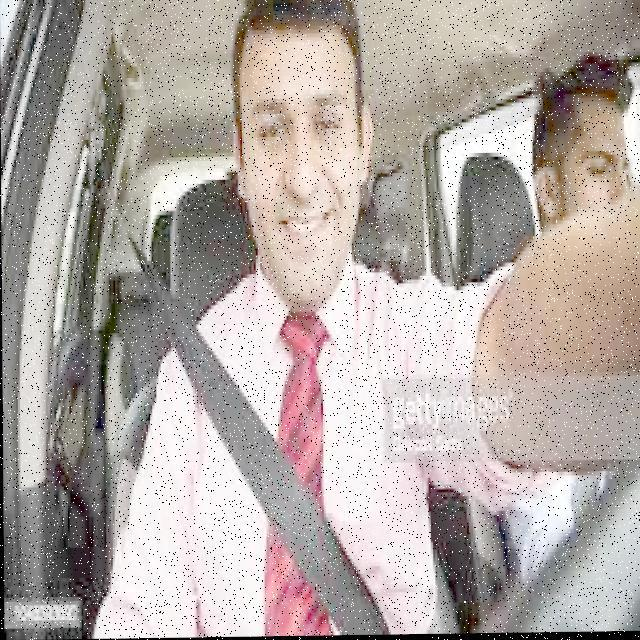seatbelt: (152, 242, 408, 638)
